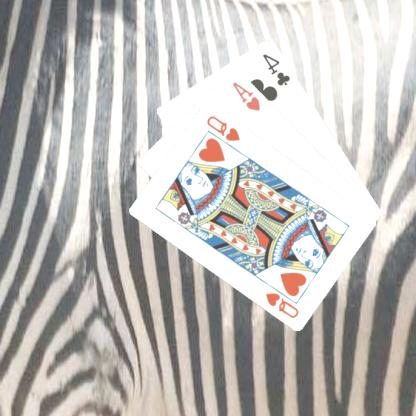4C: (262, 50, 294, 88)
AH: (231, 78, 264, 112)
QH: (264, 280, 302, 320), (205, 112, 244, 143)
